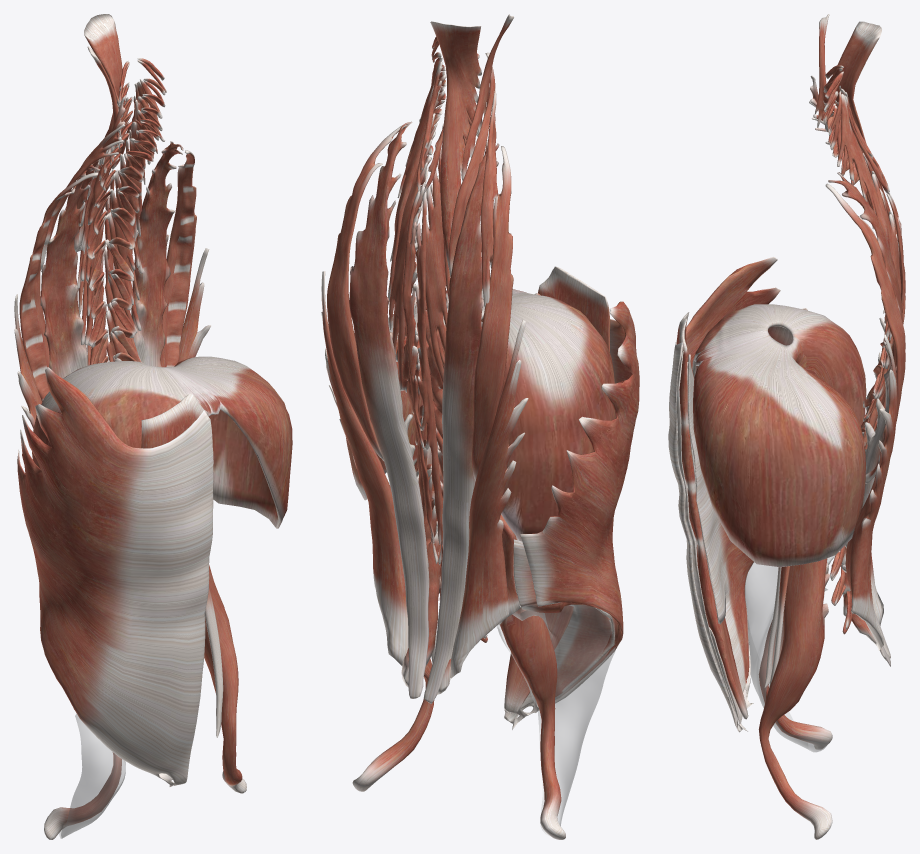
The model's file is abdomen.glb.
3 views of the same model, side by side, from view 1: azimuth 30°, elevation 25°; view 2: azimuth 150°, elevation 25°; view 3: azimuth 270°, elevation 25° (orthographic). The views are drawn at different scales.
Visible parts, largest first — view 1: External abdominal oblique muscle.r, Diaphragm, Longissimus thoracis muscle.r, Iliocostalis thoracis muscle.r, Psoas major.r, Rotatores longi.r, Multifidus thoracis.r, Iliopsoas fascia.r, Rotatores brevis.r, Iliocostalis lumborum muscle.r, Semispinalis thoracis muscle.r, Spinalis capitis.r (+8 smaller); view 2: Longissimus thoracis muscle.r, Diaphragm, Iliocostalis lumborum muscle.r, External abdominal oblique muscle.r, Iliocostalis thoracis muscle.r, Iliopsoas fascia.r, Psoas major.r, Spinalis thoracis muscle.r, Spinalis capitis.r, Semispinalis thoracis muscle.r, Transverse abdominal muscle.r, Rectus abdominal muscle.r (+10 smaller); view 3: Diaphragm, Psoas major.r, External abdominal oblique muscle.r, Transverse abdominal muscle.r, Iliocostalis lumborum muscle.r, Rectus abdominal muscle.r, Iliopsoas fascia.r, Longissimus thoracis muscle.r, Iliocostalis thoracis muscle.r, Spinalis capitis.r, Semispinalis cervicis muscle.r, Internal abdominal oblique muscle.r (+9 smaller).
Boxes of the visible parts, box(x1,y1,x2,y2) form: External abdominal oblique muscle.r: box(17, 367, 213, 787); Diaphragm: box(32, 356, 292, 528); Longissimus thoracis muscle.r: box(40, 141, 183, 378); Iliocostalis thoracis muscle.r: box(19, 150, 196, 401); Psoas major.r: box(44, 565, 246, 839); Rotatores longi.r: box(87, 60, 166, 364); Multifidus thoracis.r: box(84, 119, 157, 364); Iliopsoas fascia.r: box(59, 713, 125, 838); Rotatores brevis.r: box(90, 58, 165, 362); Iliocostalis lumborum muscle.r: box(14, 248, 210, 428); Semispinalis thoracis muscle.r: box(78, 129, 141, 365); Spinalis capitis.r: box(75, 14, 123, 251); Longissimus thoracis muscle.r: box(349, 121, 499, 703); Diaphragm: box(346, 288, 615, 541); Iliocostalis lumborum muscle.r: box(321, 271, 528, 678); External abdominal oblique muscle.r: box(504, 301, 639, 729); Iliocostalis thoracis muscle.r: box(327, 125, 513, 480); Iliopsoas fascia.r: box(496, 536, 615, 836); Psoas major.r: box(352, 441, 565, 839); Spinalis thoracis muscle.r: box(402, 190, 442, 564); Spinalis capitis.r: box(430, 21, 481, 269); Semispinalis thoracis muscle.r: box(389, 122, 448, 390); Transverse abdominal muscle.r: box(508, 293, 615, 713); Rectus abdominal muscle.r: box(504, 266, 610, 713); Diaphragm: box(692, 304, 866, 567); Psoas major.r: box(758, 558, 832, 839); External abdominal oblique muscle.r: box(668, 257, 807, 732); Transverse abdominal muscle.r: box(687, 354, 753, 723); Iliocostalis lumborum muscle.r: box(845, 318, 897, 650); Rectus abdominal muscle.r: box(676, 312, 748, 719); Iliopsoas fascia.r: box(744, 555, 834, 752); Longissimus thoracis muscle.r: box(828, 141, 903, 666); Iliocostalis thoracis muscle.r: box(825, 141, 905, 483); Spinalis capitis.r: box(823, 21, 889, 211); Semispinalis cervicis muscle.r: box(837, 88, 890, 249); Internal abdominal oblique muscle.r: box(677, 351, 739, 724).
Bounding box in the file's own units: 0.2661 × 0.7962 × 0.2258.
6 materials, 5 textured.
